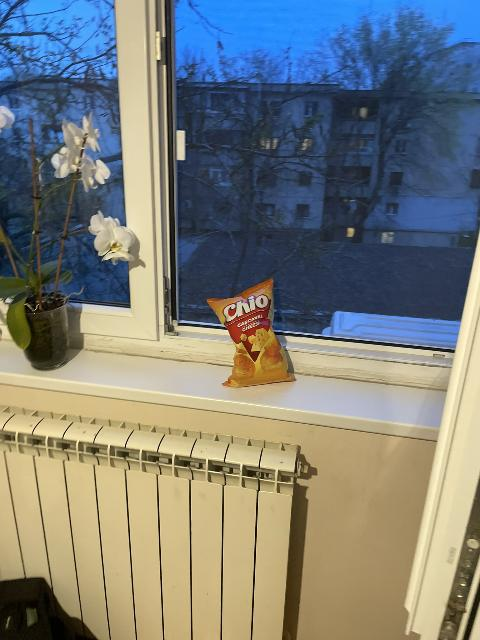Chio Cascaval 125g: (206, 277, 294, 383)
